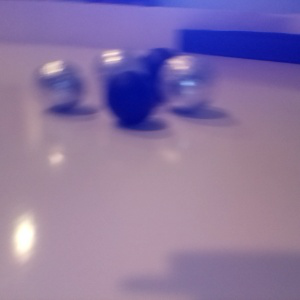alive_ball: (157, 53, 212, 109), (34, 58, 86, 110), (91, 48, 142, 101)
dead_ball: (105, 70, 158, 124), (134, 46, 185, 100)
